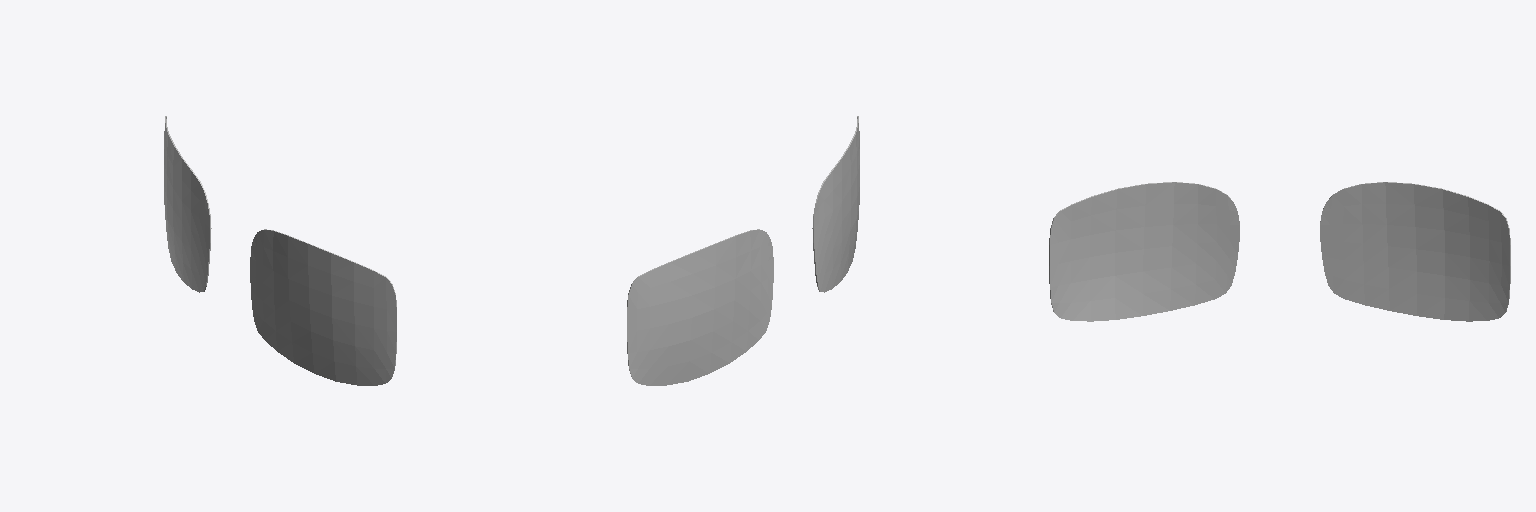
File: glass.obj
3 renders of one model, left to right at view 1: azimuth 30°, elevation 25°; view 2: azimuth 150°, elevation 25°; view 3: azimuth 270°, elevation 25°, orthographic.
Visible parts, largest first — view 1: Glasses_Plane.005; view 2: Glasses_Plane.005; view 3: Glasses_Plane.005.
Boxes of the visible parts, <box> form: Glasses_Plane.005: <box>164,116,396,385</box>; Glasses_Plane.005: <box>627,116,859,385</box>; Glasses_Plane.005: <box>1049,182,1510,321</box>.
Bounding box in the file's own units: 0.3706 × 0.8766 × 2.83.